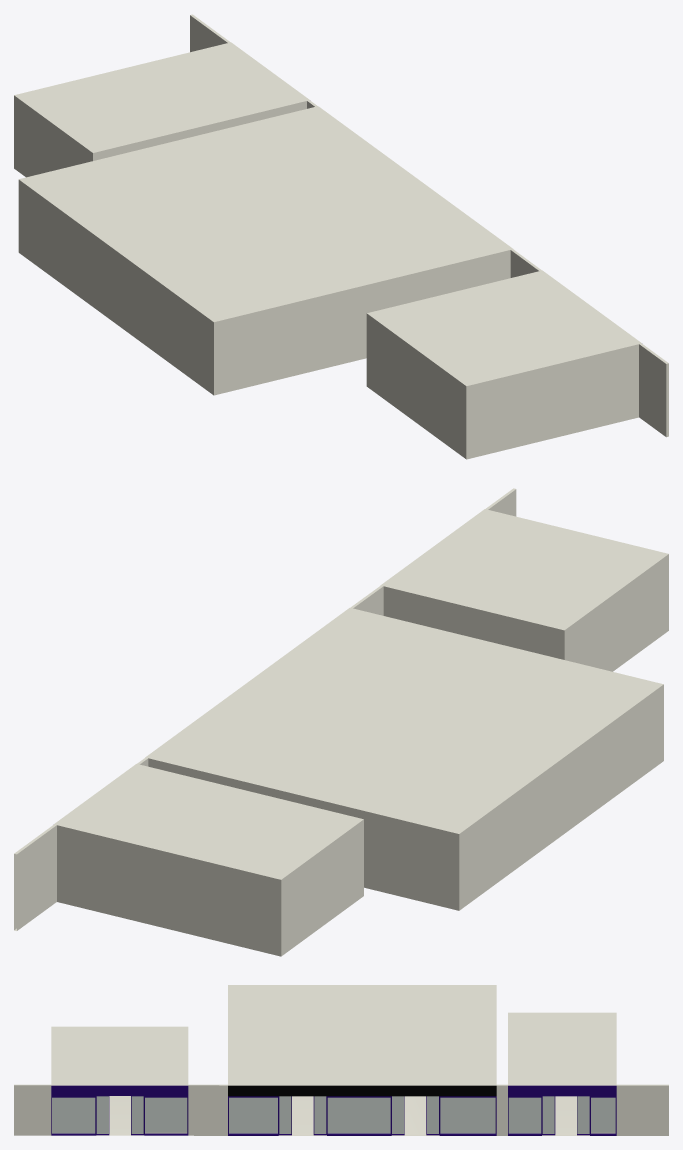
File: Shop 4.FBX
3 renders of one model, top to bottom at view 1: azimuth 30°, elevation 25°; view 2: azimuth 150°, elevation 25°; view 3: azimuth 270°, elevation 25°, orthographic. The views are drawn at different scales.
Visible parts, largest first — view 1: shop 4; view 2: shop 4; view 3: shop 4.
Part boxes in pixels (x1,y1,x2,y2): shop 4: [14, 14, 668, 459]; shop 4: [14, 488, 668, 956]; shop 4: [14, 985, 668, 1135].
Size of the model in its own units: 715 by 167 by 1969.
Materials: 1 (1 with a texture image).
